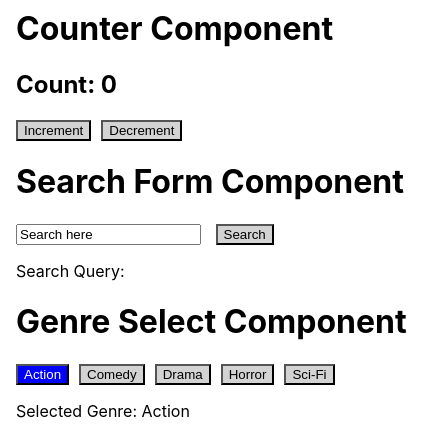
Test: App Component › updates search query on form submission
// Simulate user interaction
Replace the text in the field with placeholder "Search..." with "React Testing" at (108, 234), box x1=16 y1=224 x2=201 y2=245
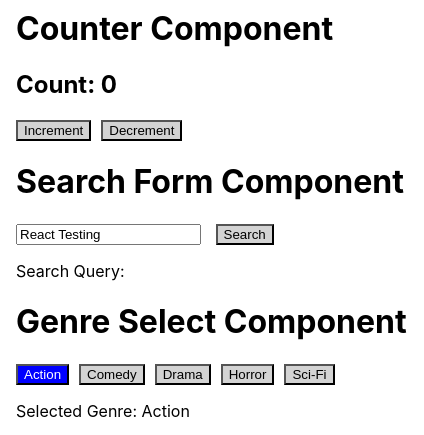
Click the button "Search" at (245, 234), box x1=216 y1=224 x2=274 y2=245
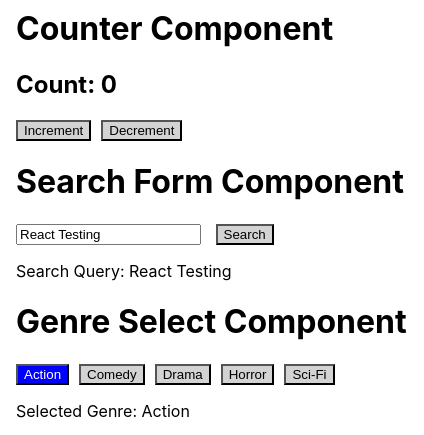
Expected: the text "Search Query: React Testing" is shown, x1=16 y1=261 x2=232 y2=281
